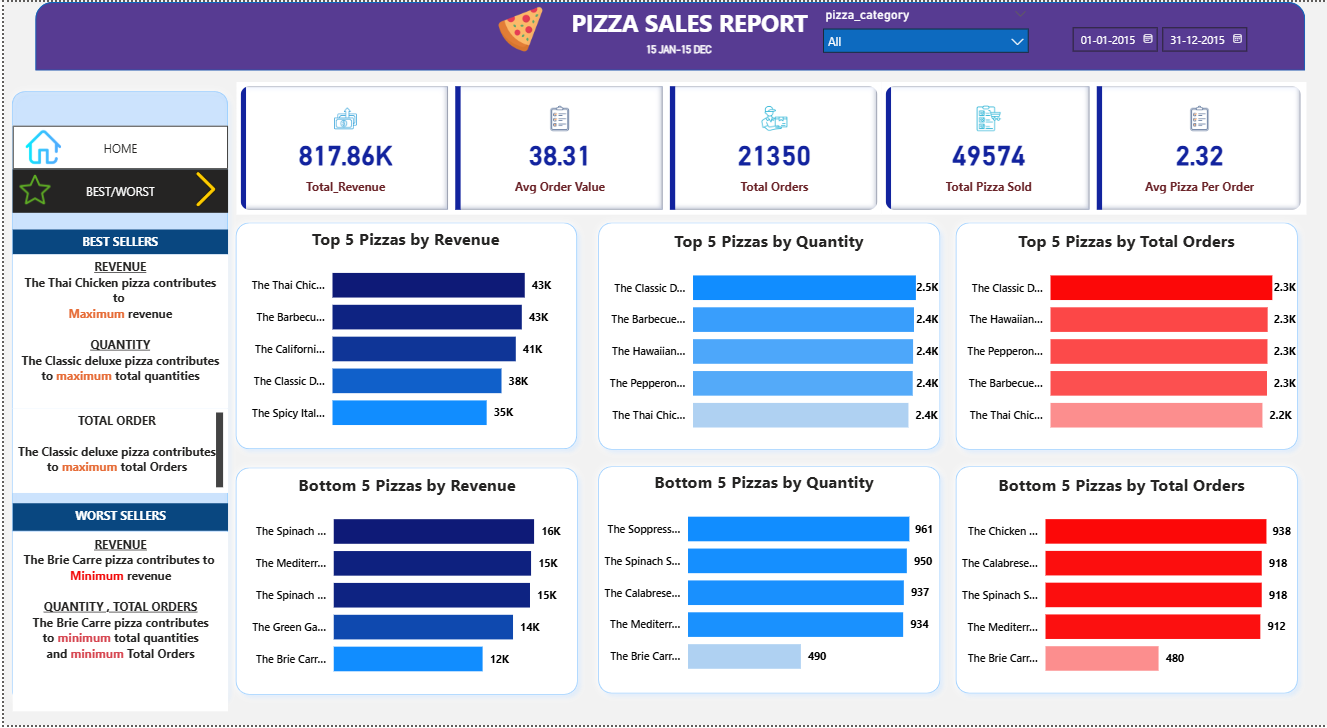

Layout of this report page (visuals, bound fields, positions):
{"tool":"powerbi","page":{"name":"BEST/WORST","canvas":[1500,820],"ordinal":1},"visuals":[{"type":"shape","box":[0,91.4,262.9,711.4],"z":0},{"type":"cardVisual","fields":{"Data":["pizza_sales.Total_Revenue","pizza_sales.Avg Order Value","pizza_sales.Total Orders"]},"box":[262.9,90,731.4,150],"z":1000},{"type":"cardVisual","fields":{"Data":["pizza_sales.Total Pizza Sold","pizza_sales.Avg Pizza Per Order"]},"box":[994.3,90,481.4,150],"z":2000},{"type":"shape","box":[35.4,0,1439.4,77.9],"z":3000},{"type":"textbox","box":[634.3,0,284.3,50],"z":4000},{"type":"textbox","box":[704.3,38.6,121.4,37.1],"z":5000},{"type":"image","box":[537.1,0,97.1,61.4],"z":6000},{"type":"shape","box":[254.3,241.4,405,275],"z":7000},{"type":"textbox","box":[9.9,257.8,243.7,28.3],"z":8000},{"type":"textbox","box":[9.9,286.2,243.7,174.3],"z":9000},{"type":"textbox","box":[9.9,460.4,243.7,96.3],"z":10000},{"type":"textbox","box":[10,568.6,244.3,31.4],"z":11000},{"type":"textbox","box":[10,600,244.3,202.9],"z":12000},{"type":"slicer","fields":{"Values":["pizza_sales.pizza_category"]},"box":[918.6,1.4,252.9,75.7],"z":13000},{"type":"slicer","fields":{"Values":["pizza_sales.order_date"]},"box":[1198.6,18.6,251.4,62.9],"z":14000},{"type":"shape","box":[664.3,241.4,405.7,275.7],"z":15000},{"type":"shape","box":[1070,241.4,405.7,275.7],"z":16000},{"type":"shape","box":[254.3,518.6,405.7,275.7],"z":17000},{"type":"shape","box":[664.3,517.1,405.7,275.7],"z":18000},{"type":"shape","box":[1070,517.1,405.7,275.7],"z":19000},{"type":"barChart","title":"Top 5 Pizzas by Revenue","fields":{"Y":["pizza_sales.Total_Revenue"],"Category":["pizza_sales.pizza_name"]},"box":[263.5,255,383.9,245.1],"z":20000},{"type":"barChart","title":"Bottom 5 Pizzas by Revenue","fields":{"Y":["pizza_sales.Total_Revenue"],"Category":["pizza_sales.pizza_name"]},"box":[264.9,534.1,383.9,245.1],"z":21000},{"type":"barChart","title":"Top 5 Pizzas by Quantity","fields":{"Category":["pizza_sales.pizza_name"],"Y":["pizza_sales.Total Pizza Sold"]},"box":[670.1,257.8,393.9,245.1],"z":22000},{"type":"barChart","title":"Bottom 5 Pizzas by Quantity","fields":{"Category":["pizza_sales.pizza_name"],"Y":["pizza_sales.Total Pizza Sold"]},"box":[664.4,531.3,393.9,245.1],"z":23000},{"type":"barChart","title":"Top 5 Pizzas by Total Orders","fields":{"Category":["pizza_sales.pizza_name"],"Y":["pizza_sales.Total Orders"]},"box":[1075.3,257.8,393.9,245.1],"z":24000},{"type":"barChart","title":"Bottom 5 Pizzas by Total Orders","fields":{"Category":["pizza_sales.pizza_name"],"Y":["pizza_sales.Total Orders"]},"box":[1069.4,533.9,394,244.4],"z":25000},{"type":"pageNavigator","box":[9.6,189.8,244.4,49.9],"z":26000},{"type":"pageNavigator","box":[9.6,139.9,244.4,49.9],"z":27000},{"type":"image","box":[204,184.2,49.6,55.3],"z":28000},{"type":"image","box":[19.8,138.8,49.6,51],"z":29000},{"type":"image","box":[12.8,187,45.3,51],"z":30000}]}

Visuals, with their boxes in screenshot pixels (x1, y1, x2, y2), scaled from the page's 1500x820 canvas onto the 1327x728 screenshot:
shape: 0:81:233:713
cardVisual - pizza_sales.Total_Revenue x pizza_sales.Avg Order Value: 233:80:880:213
cardVisual - pizza_sales.Total Pizza Sold x pizza_sales.Avg Pizza Per Order: 880:80:1306:213
shape: 31:0:1305:69
textbox: 561:0:813:44
textbox: 623:34:730:67
image: 475:0:561:55
shape: 225:214:583:458
textbox: 9:229:224:254
textbox: 9:254:224:409
textbox: 9:409:224:494
textbox: 9:505:225:533
textbox: 9:533:225:713
slicer - pizza_sales.pizza_category: 813:1:1036:68
slicer - pizza_sales.order_date: 1060:17:1283:72
shape: 588:214:947:459
shape: 947:214:1306:459
shape: 225:460:584:705
shape: 588:459:947:704
shape: 947:459:1306:704
"Top 5 Pizzas by Revenue" barChart: 233:226:573:444
"Bottom 5 Pizzas by Revenue" barChart: 234:474:574:692
"Top 5 Pizzas by Quantity" barChart: 593:229:941:446
"Bottom 5 Pizzas by Quantity" barChart: 588:472:936:689
"Top 5 Pizzas by Total Orders" barChart: 951:229:1300:446
"Bottom 5 Pizzas by Total Orders" barChart: 946:474:1295:691
pageNavigator: 8:169:225:213
pageNavigator: 8:124:225:169
image: 180:164:224:213
image: 18:123:61:169
image: 11:166:51:211
